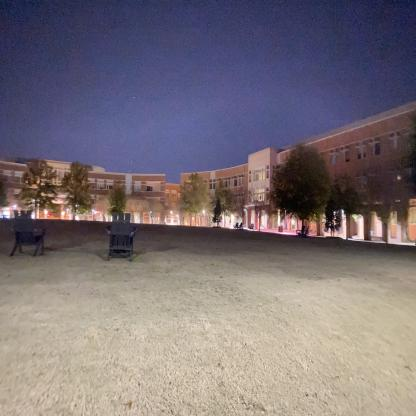eb3: (178, 96, 415, 244)
